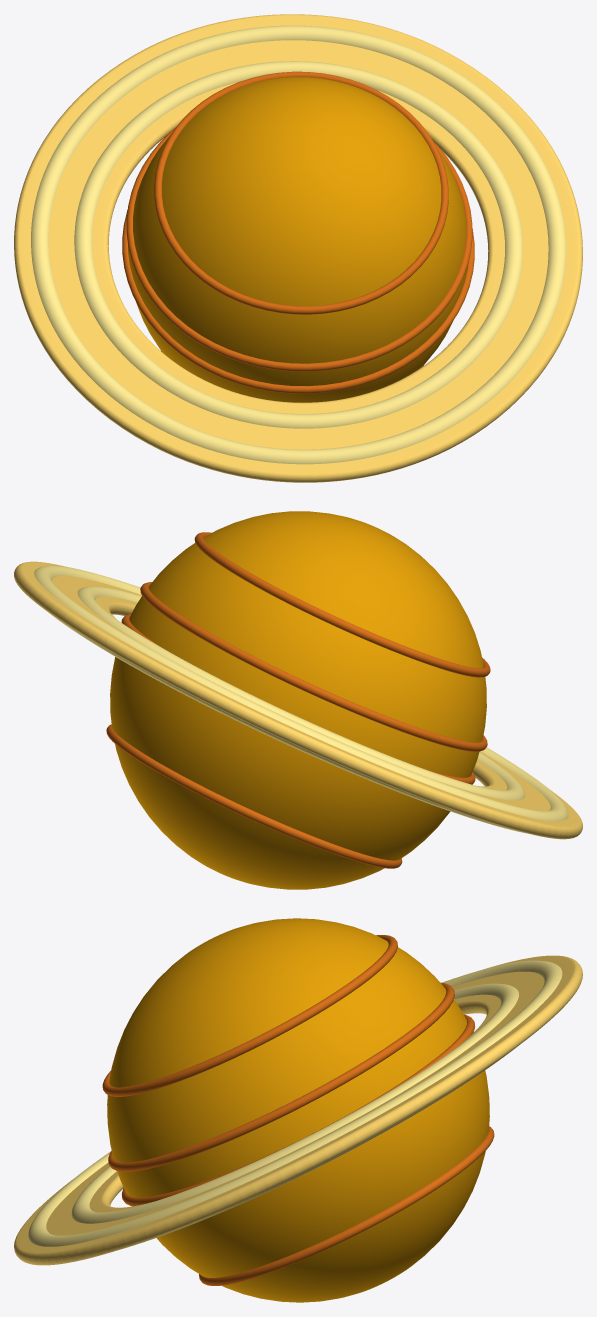
File: Planet-4.glb
3 views of the same model, one above another, from view 1: azimuth 30°, elevation 25°; view 2: azimuth 150°, elevation 25°; view 3: azimuth 270°, elevation 25° (orthographic). The views are drawn at different scales.
Parts seen in each view (by area): view 1: Sphere, Roundcube.001, Roundcube.002, Sphere.001; view 2: Sphere, Roundcube.001, Roundcube.002, Sphere.001; view 3: Sphere, Roundcube.001, Roundcube.002, Sphere.001.
Part boxes in pixels (x1,y1,x2,y2): Sphere: (128,77,468,402); Roundcube.001: (14,14,582,482); Roundcube.002: (31,25,566,464); Sphere.001: (122,71,474,393); Sphere: (110,511,486,889); Roundcube.001: (14,561,582,839); Roundcube.002: (34,565,568,833); Sphere.001: (106,532,490,868); Sphere: (107,918,489,1302); Roundcube.001: (14,955,582,1265); Roundcube.002: (28,960,562,1249); Sphere.001: (102,935,494,1285).
Size of the model in its own units: 3.2 by 1.98 by 2.94.
